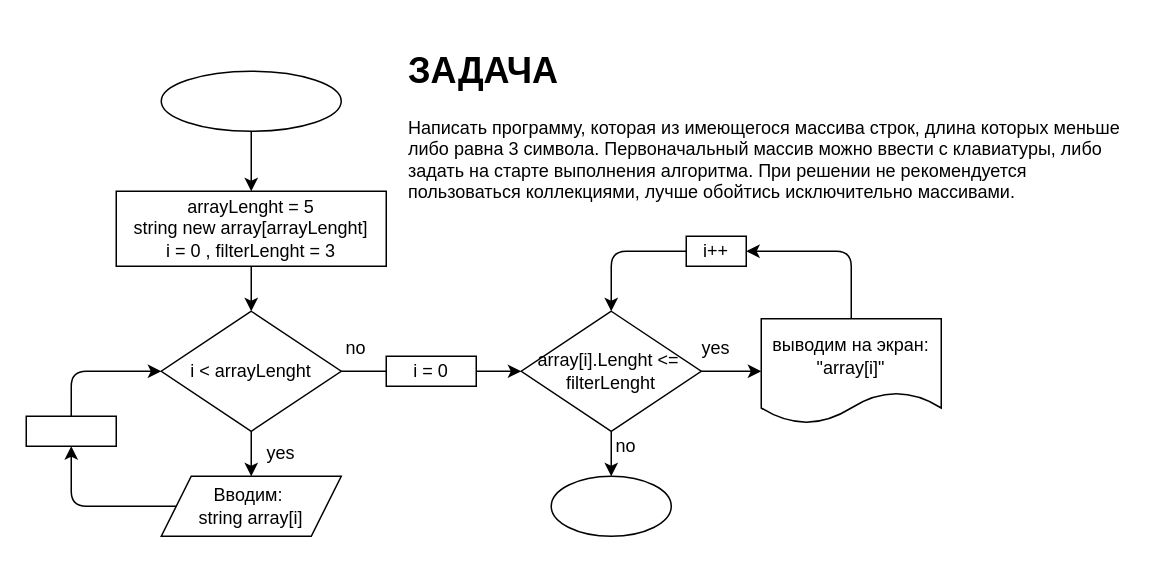
Some shapes in this 1163 by 563 pixel diagram are drawn without their labels. The box of each missing label's shape, as (x1, y1, x2, y2) in pixels:
END: (550, 475, 671, 536)
i ++: (25, 415, 116, 446)
START: (160, 70, 341, 131)
